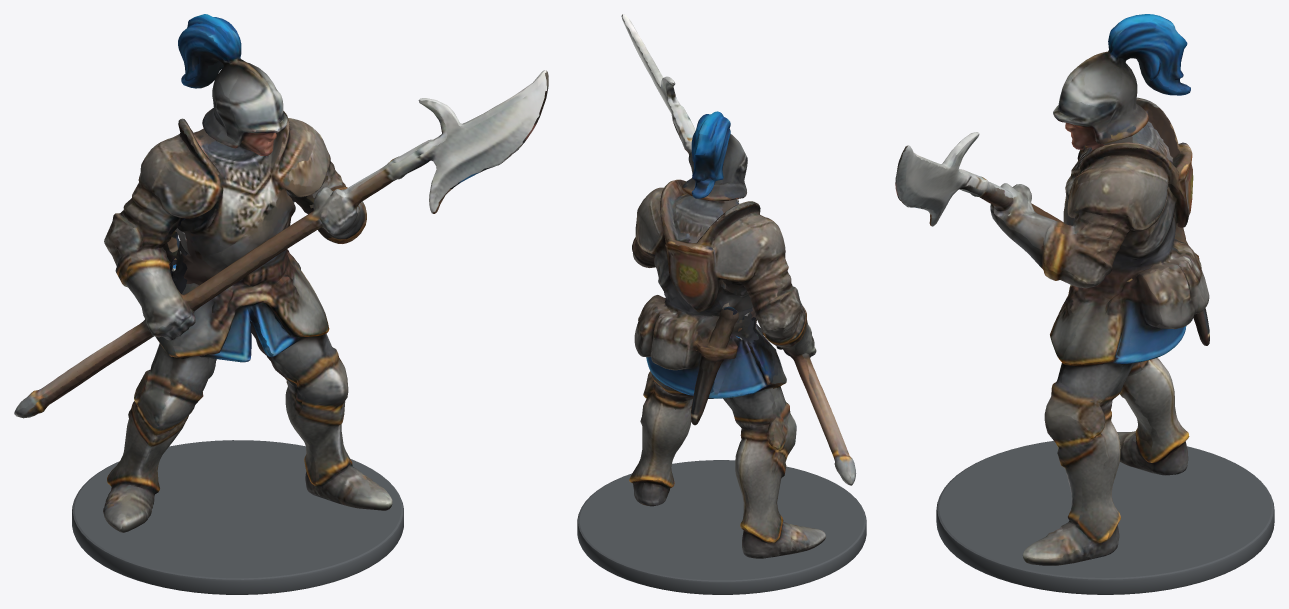
The model's file is elite-castle-guard.glb.
3 views of the same model, side by side, from view 1: azimuth 30°, elevation 25°; view 2: azimuth 150°, elevation 25°; view 3: azimuth 270°, elevation 25° (orthographic). The views are drawn at different scales.
Parts seen in each view (by area): view 1: elite-castle-guard_body, elite-castle-guard_round_base; view 2: elite-castle-guard_body, elite-castle-guard_round_base; view 3: elite-castle-guard_body, elite-castle-guard_round_base.
Part boxes in pixels (x1,y1,x2,y2): elite-castle-guard_body: (14, 14, 548, 532); elite-castle-guard_round_base: (72, 440, 403, 594); elite-castle-guard_body: (621, 14, 856, 558); elite-castle-guard_round_base: (577, 460, 866, 594); elite-castle-guard_body: (895, 14, 1209, 565); elite-castle-guard_round_base: (936, 441, 1274, 594).
Bounding box in the file's own units: 1.39 × 1.65 × 1.12.
Materials: 2 (1 with a texture image).
